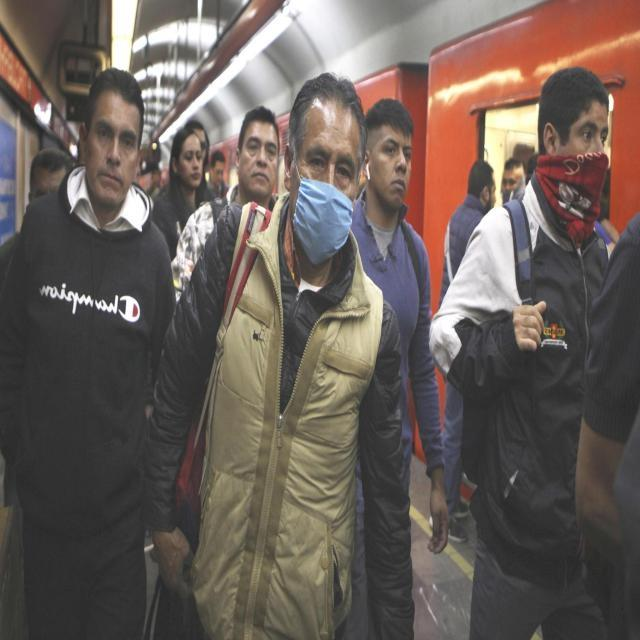hairnet: (500, 156, 526, 205)
